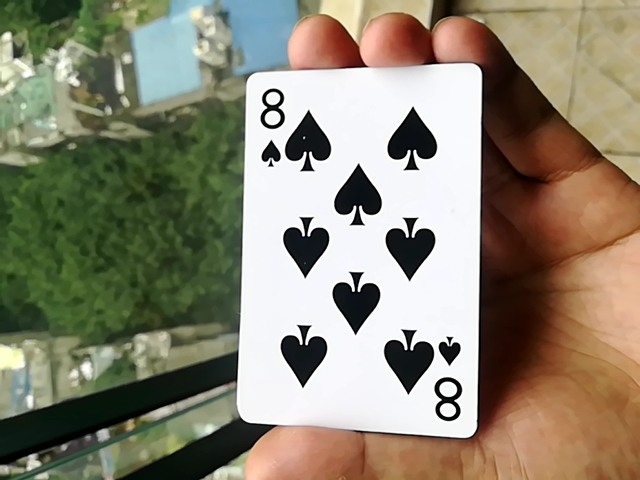ht 8: (233, 52, 464, 443)
